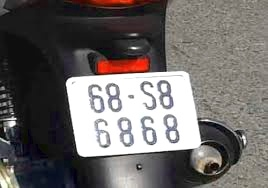Bien-so: (62, 69, 188, 158)
